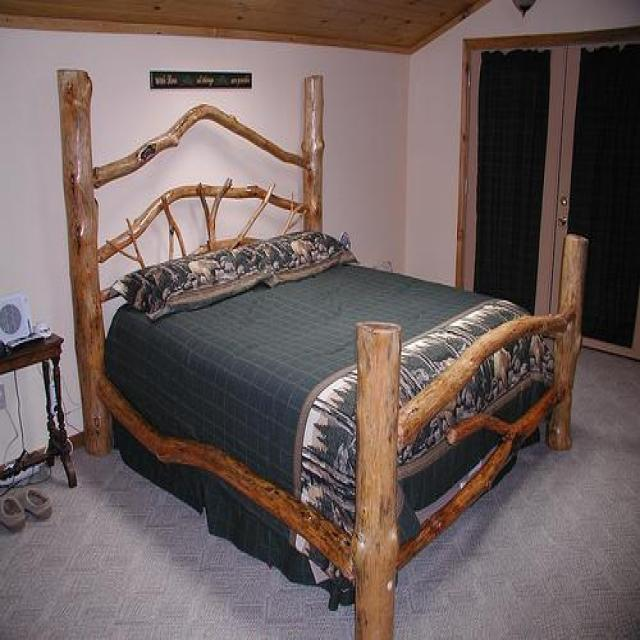bed: (74, 234, 586, 640)
